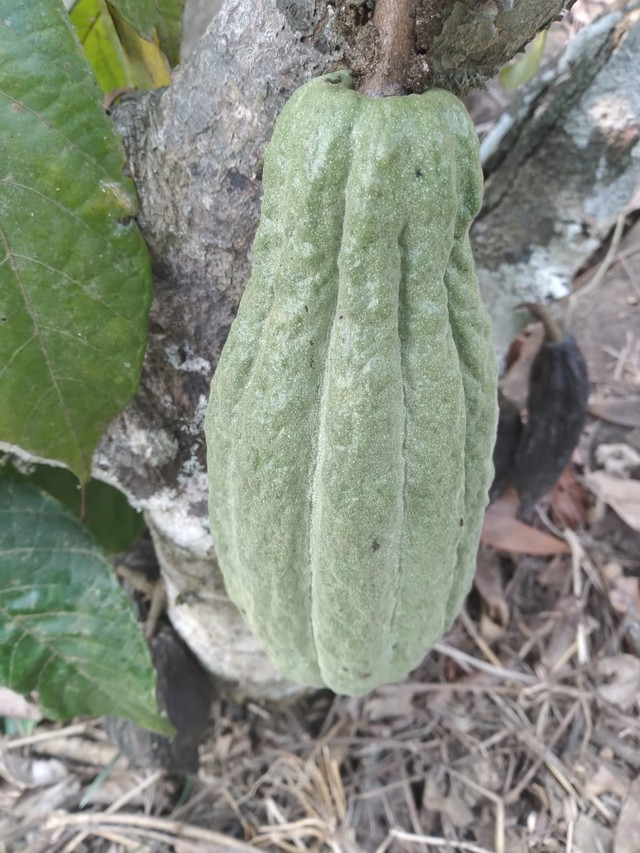Health: (183, 52, 512, 706)
